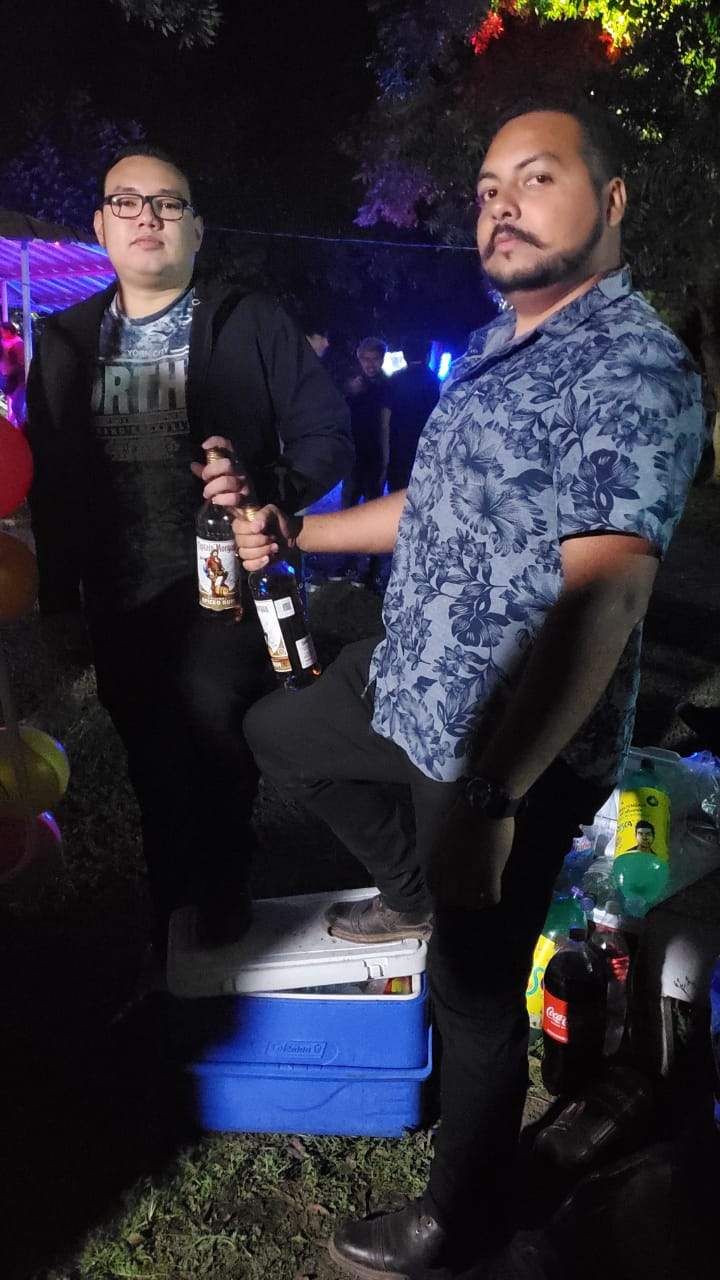Yoshi: (313, 97, 684, 750)
